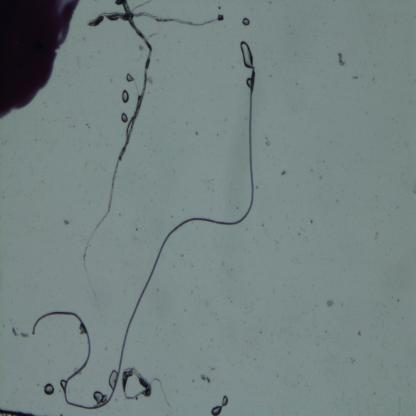Air bubble: (237, 38, 254, 70), (212, 393, 230, 414), (107, 370, 118, 390), (92, 390, 107, 404), (44, 383, 55, 397), (240, 15, 251, 27), (121, 89, 129, 104), (120, 113, 129, 124), (126, 72, 134, 83), (246, 76, 252, 88), (60, 379, 66, 390)
Background material: (9, 320, 29, 340), (198, 369, 215, 388), (336, 50, 346, 68), (326, 296, 336, 308), (280, 167, 288, 176), (355, 326, 362, 336), (266, 142, 272, 149)
Cellulose filter fibre: (82, 0, 153, 304), (87, 11, 225, 28), (122, 367, 172, 411)
Edge of slide: (0, 406, 33, 416)
Microfibre: (31, 68, 257, 410)
Pen: (0, 1, 81, 119)
